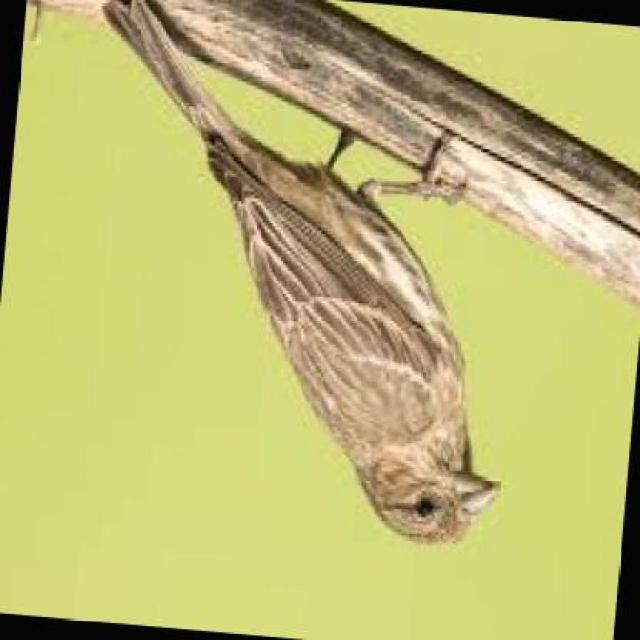Bird: (89, 0, 521, 571)
